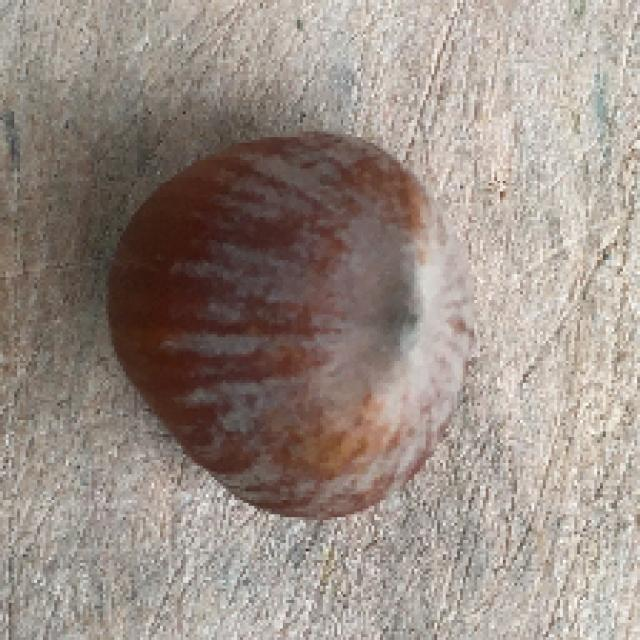QualityHazelnut: (106, 131, 481, 523)
